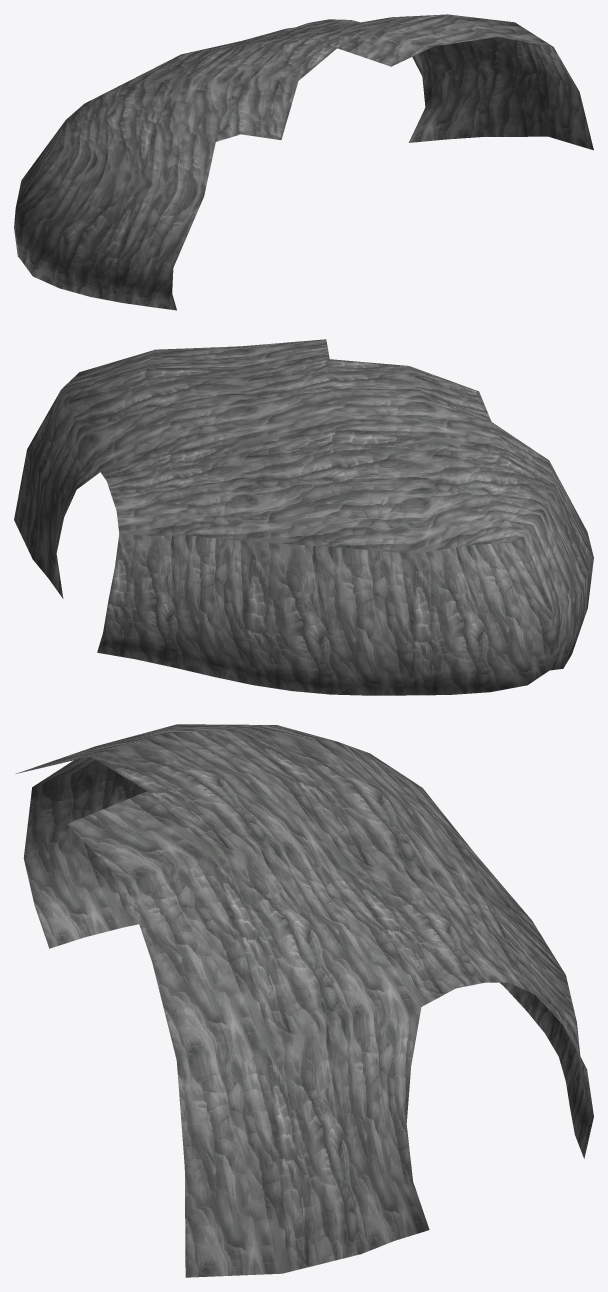
The model's file is SWORDLIGHT20_PS-AREA03-05TRANS_08.fbx.
The picture shows the model from 3 angles, top to bottom: view 1: azimuth 30°, elevation 25°; view 2: azimuth 150°, elevation 25°; view 3: azimuth 270°, elevation 25°; orthographic projection. The views are drawn at different scales.
Visible parts, largest first — view 1: SWORDLIGHT20_PS-AREA03-05TRANS_08; view 2: SWORDLIGHT20_PS-AREA03-05TRANS_08; view 3: SWORDLIGHT20_PS-AREA03-05TRANS_08.
Part boxes in pixels (x1,y1,x2,y2): SWORDLIGHT20_PS-AREA03-05TRANS_08: (14, 14, 593, 310); SWORDLIGHT20_PS-AREA03-05TRANS_08: (14, 339, 593, 695); SWORDLIGHT20_PS-AREA03-05TRANS_08: (16, 724, 593, 1277).
Bounding box in the file's own units: 252528 × 89932 × 150097.
Materials: 1 (1 with a texture image).
